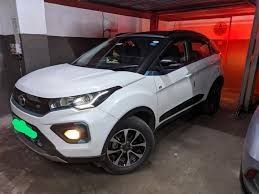Tata Nexon: (8, 28, 226, 175)
